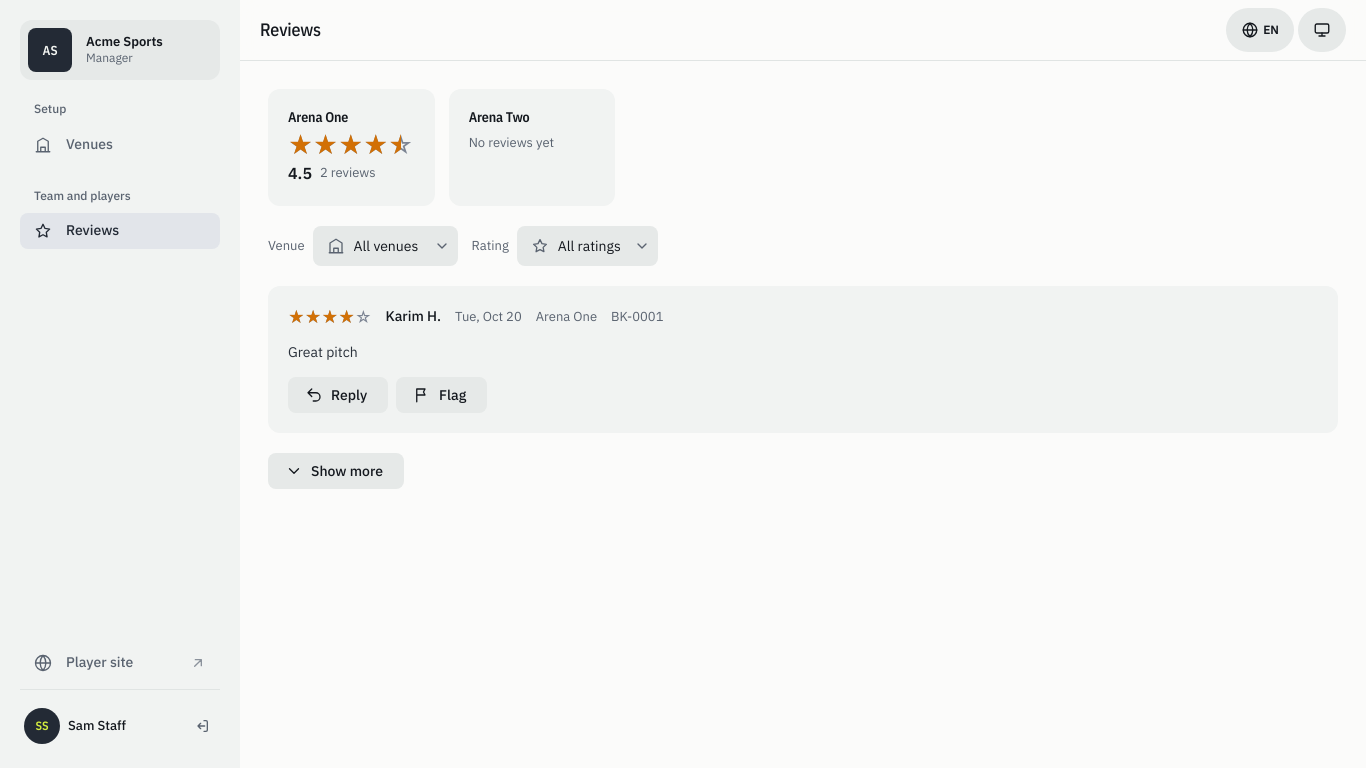
it: owner Reviews page › shows the booking reference as text without booking.view and pages with show more
Expected: the text "Great pitch" is shown, x1=288 y1=343 x2=358 y2=361
Expected: the text "BK-0001" is shown, x1=611 y1=307 x2=663 y2=327
Step 1. Click the button "Show more" → (336, 471), box x1=268 y1=453 x2=404 y2=489
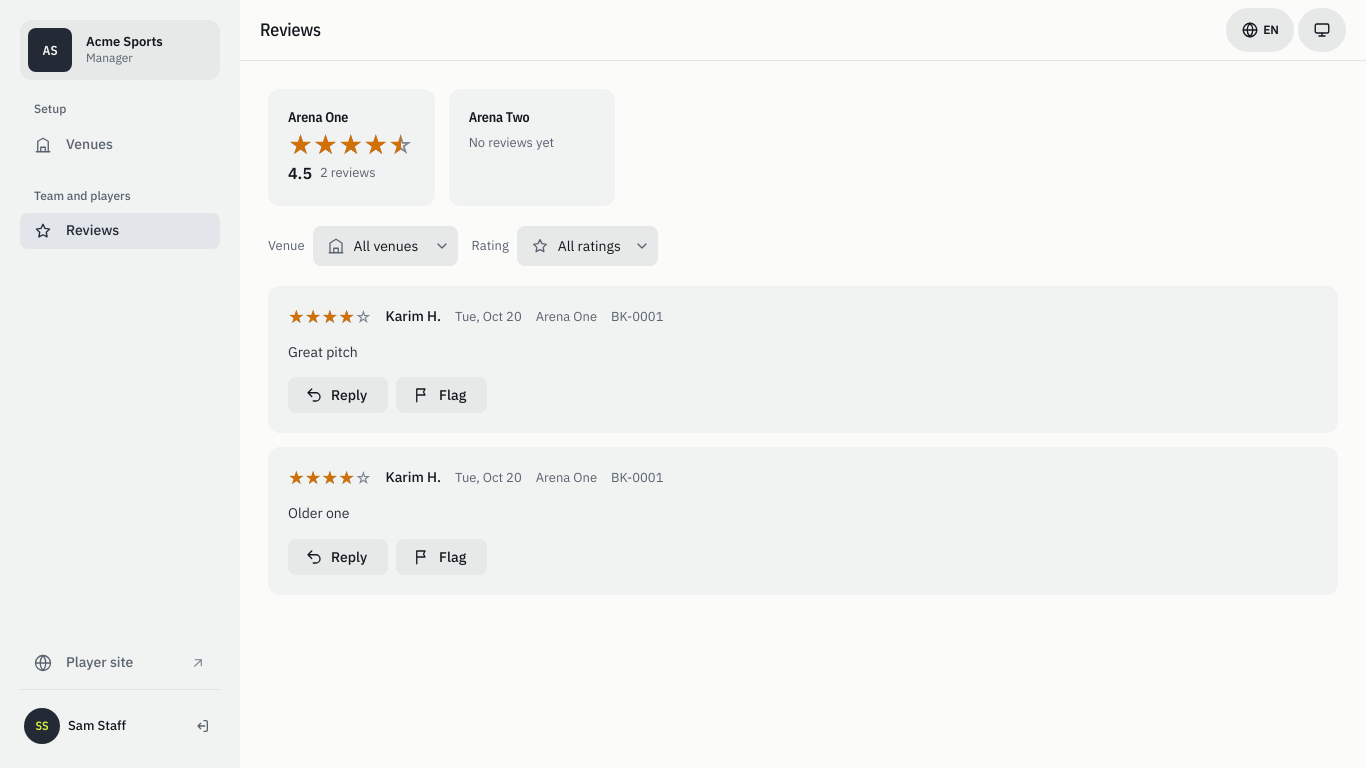
Expected: the text "Great pitch" is shown, x1=288 y1=343 x2=358 y2=361
Expected: the text "Older one" is shown, x1=288 y1=504 x2=350 y2=522
Expected: the button "Show more" is gone
